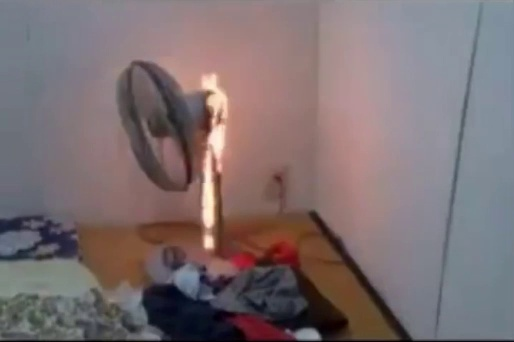fire: (200, 69, 236, 248)
